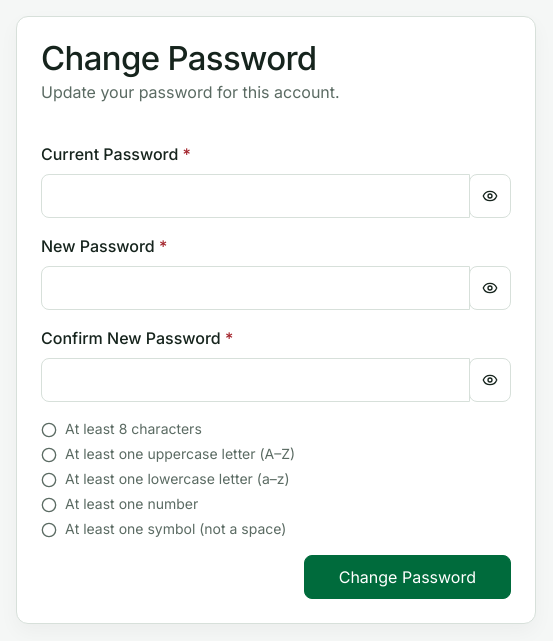
Test case: Issue 3 Change Password › keeps safe expiry feedback when the session ends during submission @issue-3
The image size is (553, 641).
Type "OldPass1!" into the password field labelled "Current Password *" at {"x": 256, "y": 196}, box [41,174,470,218]
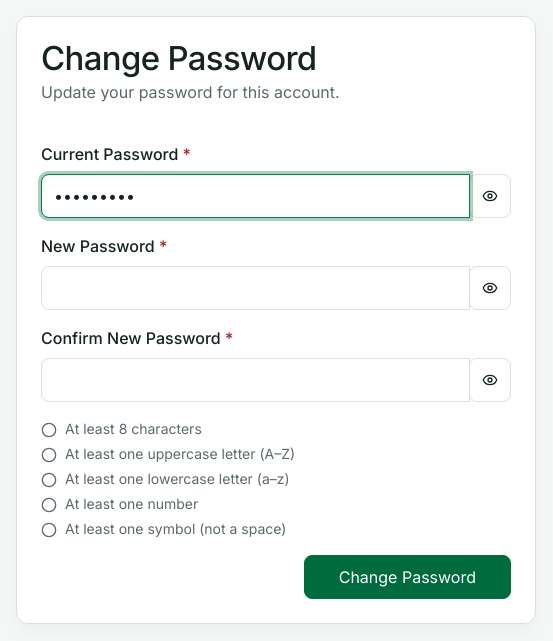
Type "NewPass3!" into the password field labelled "New Password *" at {"x": 256, "y": 288}, box [41,266,470,310]
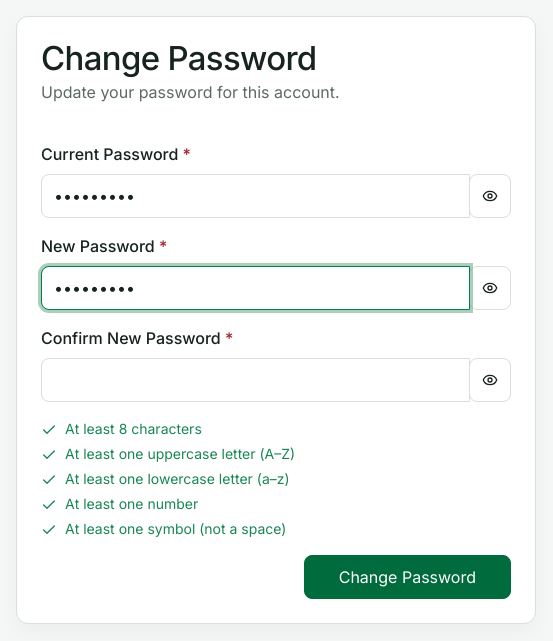
Type "NewPass3!" into the password field labelled "Confirm New Password *" at {"x": 256, "y": 380}, box [41,358,470,402]
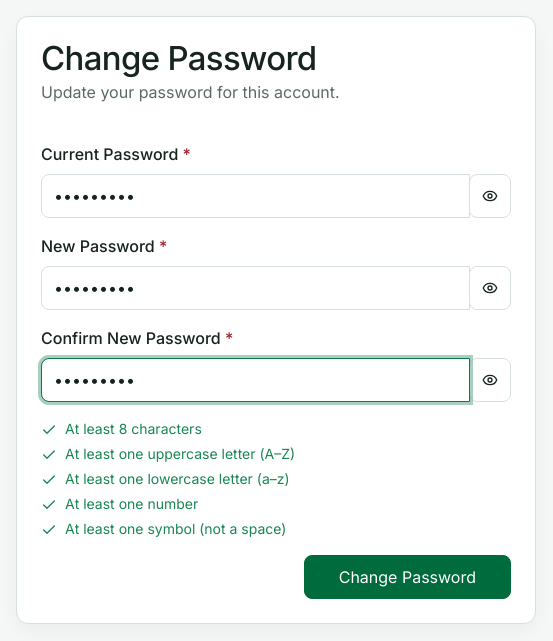
Click the button "Change Password" at {"x": 407, "y": 577}, box [304,555,511,599]
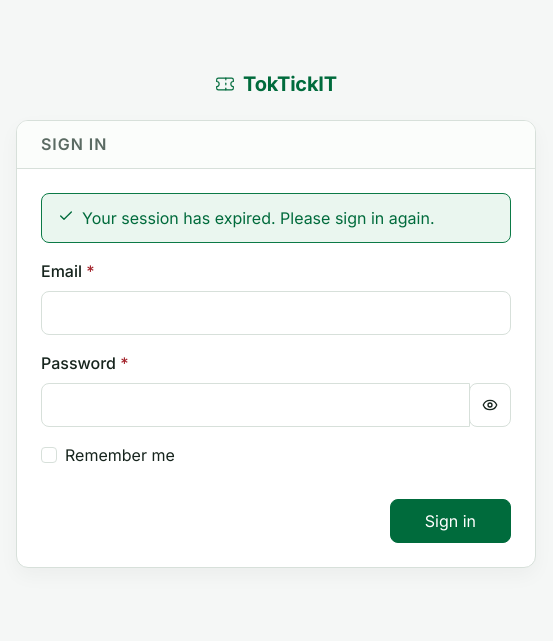
Now the heading "Sign in" is shown, box [41,135,107,154]
Now the text "Your session has expired. Please sign in again." is shown, box [82,206,434,230]
